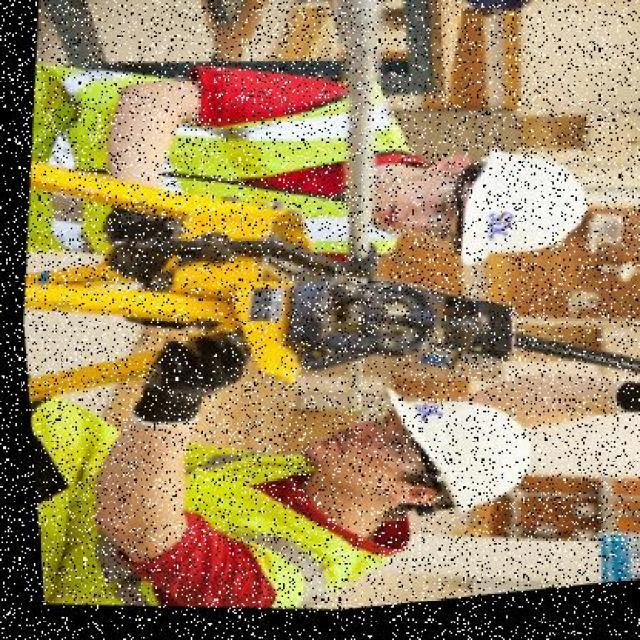helmet: (354, 377, 530, 539), (434, 145, 598, 296)
vest: (13, 60, 411, 296), (25, 403, 351, 635)
